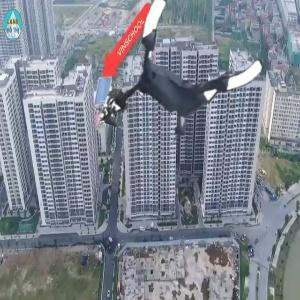drone: (118, 9, 259, 150)
